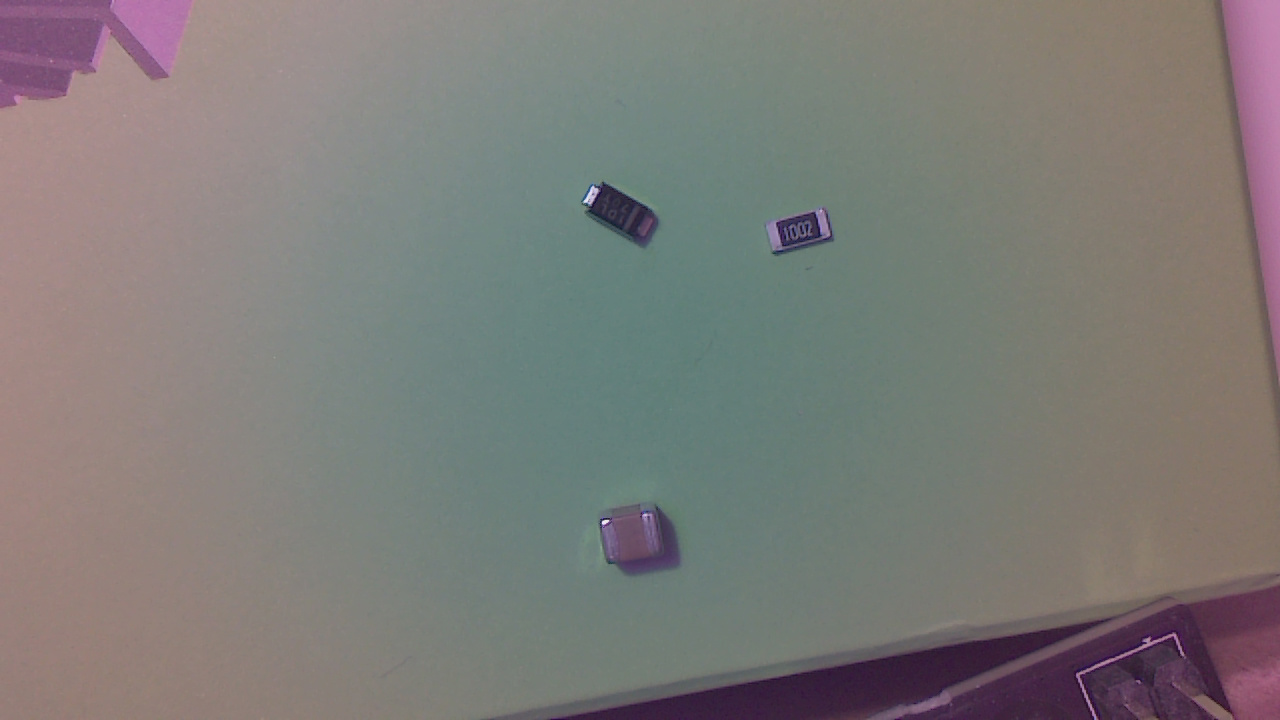Condensator: (607, 508, 668, 568)
Diode: (585, 184, 666, 251)
Resistor: (771, 211, 838, 263)
